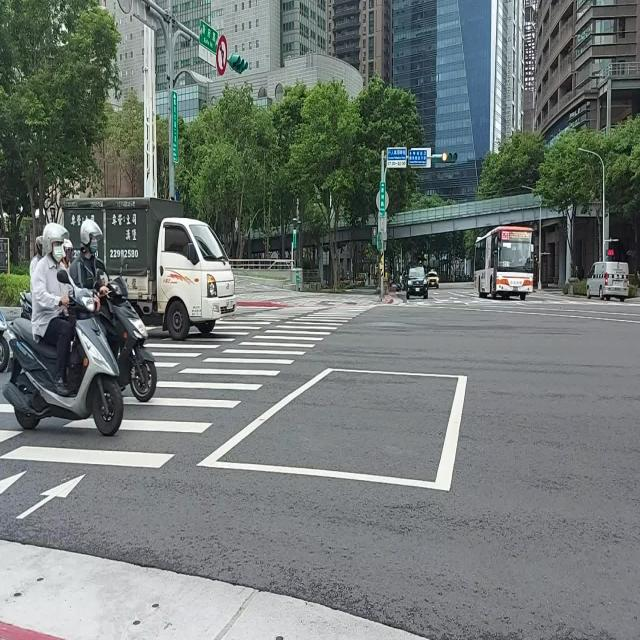bus: (475, 227, 534, 300)
car: (586, 260, 629, 301), (406, 267, 428, 300), (426, 271, 439, 288)
crosswalk: (0, 304, 375, 466), (145, 306, 329, 369), (0, 400, 25, 444)
motocycle: (4, 287, 122, 436), (99, 276, 156, 402)
trunk: (65, 198, 236, 340)
